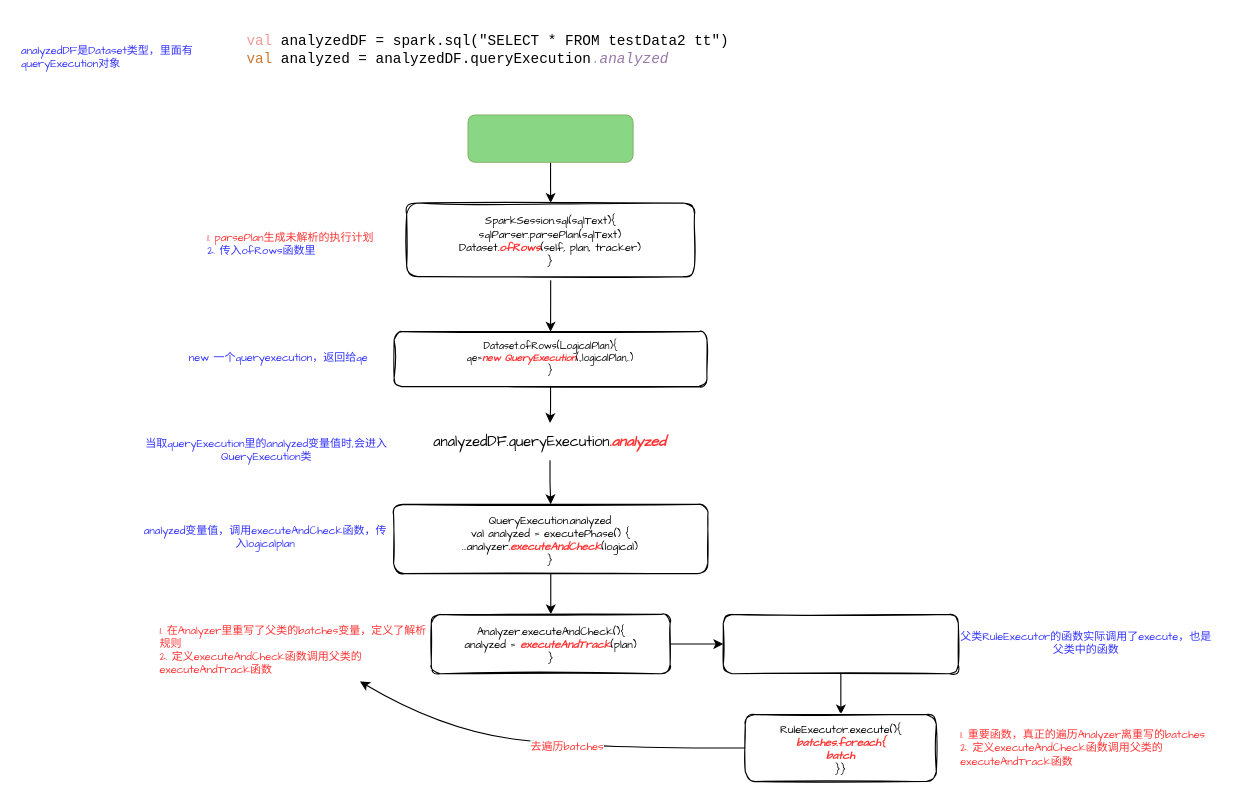
This 1246x801 diagram has some shape labels left out. Each missing label, with the box of its shape:
RuleExecutor.executeAndTrack(){ execute(plan) }: (722, 613, 958, 674)
spark.sql(sqlText): (467, 114, 633, 162)
